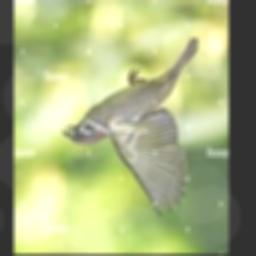Sparrow: (62, 38, 198, 215)
